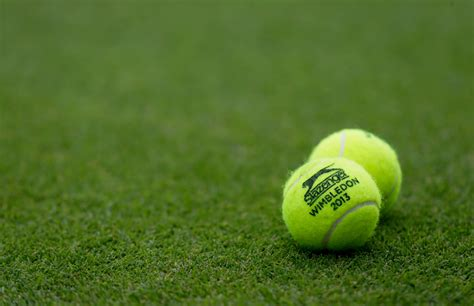tennis_ball: (281, 157, 382, 251), (309, 128, 402, 217)
